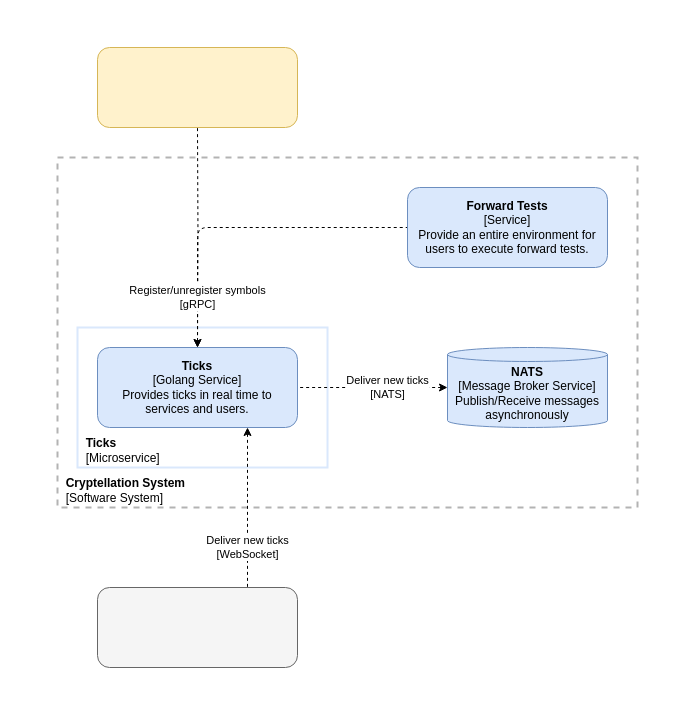
Some shapes in this 694 by 724 pixel diagram are drawn without their labels. Each missing label, with the centre of its shape:
"Exchanges [Internet Service] API that exchanges provides to get informations." goes at point (197, 627).
"User [Application] Application that a user will run to execute its strategies." goes at point (197, 87).
